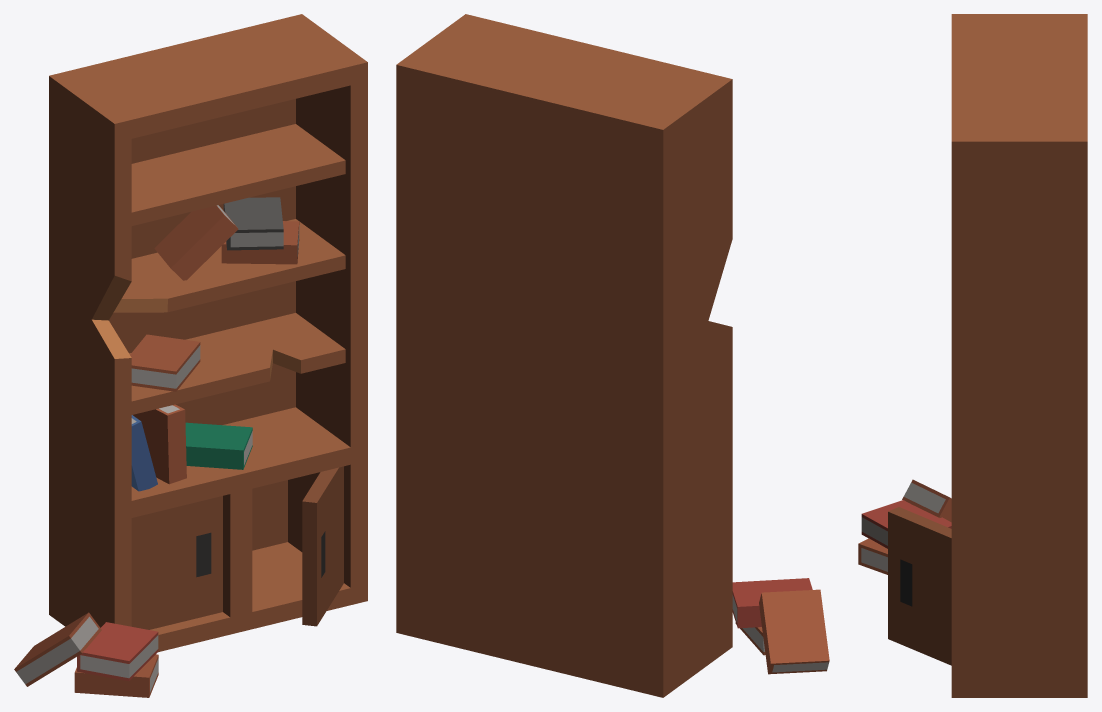
The model's file is AI_Prop_BookShelf_Large.fbx.
The picture shows the model from 3 angles, left to right: view 1: azimuth 30°, elevation 25°; view 2: azimuth 150°, elevation 25°; view 3: azimuth 270°, elevation 25°; orthographic projection. The views are drawn at different scales.
Parts seen in each view (by area): view 1: AI_Prop_BookShelf_Large; view 2: AI_Prop_BookShelf_Large; view 3: AI_Prop_BookShelf_Large.
Boxes of the visible parts, x1,y1,x2,y2 form: AI_Prop_BookShelf_Large: [14, 14, 367, 697]; AI_Prop_BookShelf_Large: [396, 14, 829, 697]; AI_Prop_BookShelf_Large: [858, 14, 1087, 697].
Bounding box in the file's own units: 2.72 × 4.02 × 1.5.
